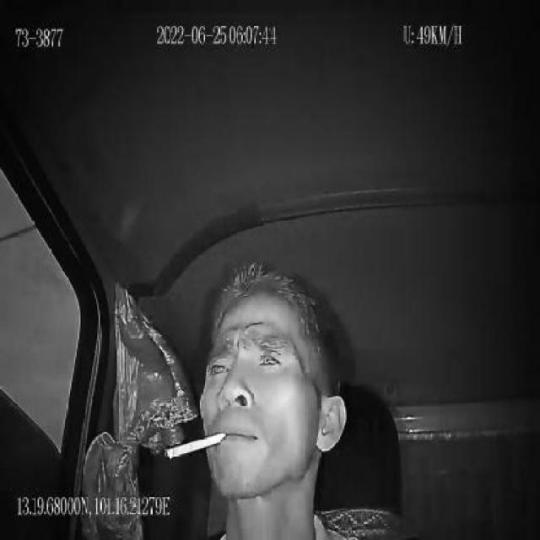smoking: (166, 428, 230, 462)
